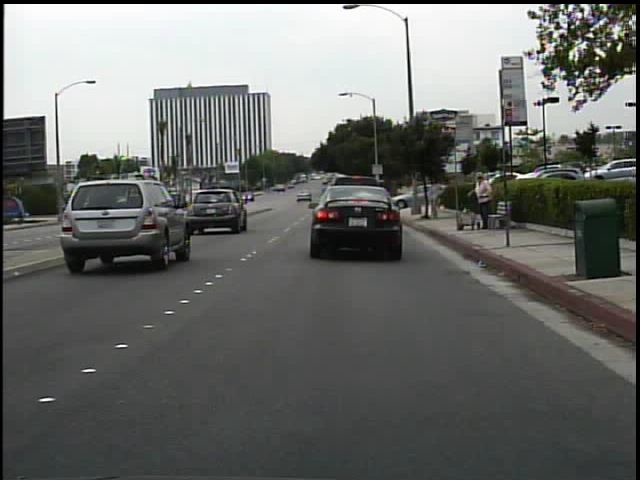person: (468, 170, 497, 231), (425, 170, 450, 220)
